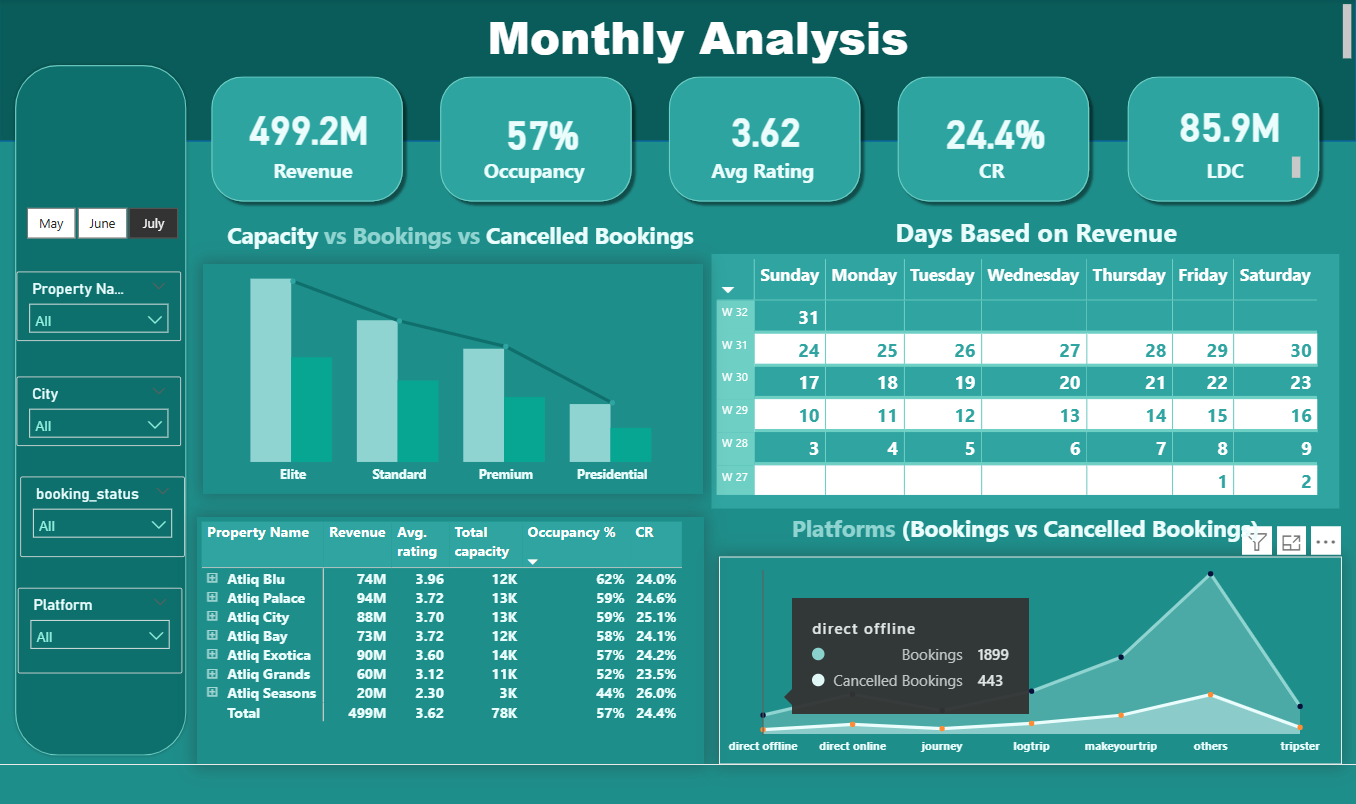

Layout of this report page (visuals, bound fields, positions):
{"tool":"powerbi","page":{"name":"Monthly Analysis","canvas":[1280,760],"ordinal":1},"visuals":[{"type":"group","id":"g1","title":"visuals","box":[0,0,1280,722.1],"z":0},{"type":"shape","box":[0,0,1280,134.4],"z":0,"group":"g1"},{"type":"shape","box":[840.8,65.9,194.5,131.9],"z":1000,"group":"g1"},{"type":"shape","box":[624.8,65.9,194.5,131.9],"z":2000,"group":"g1"},{"type":"shape","box":[192.9,65.9,194.5,131.9],"z":3000,"group":"g1"},{"type":"textbox","box":[672,480,592,80],"z":3000},{"type":"textbox","box":[198.7,203.2,471.7,47],"z":4000},{"type":"shape","box":[408.9,65.9,194.5,131.9],"z":5000,"group":"g1"},{"type":"shape","box":[11.5,59.3,168.2,657.8],"z":6000,"group":"g1"},{"type":"shape","box":[1056.7,65.9,194.5,131.9],"z":7000,"group":"g1"},{"type":"pivotTable","fields":{"Rows":["dim_date.week no"],"Values":["Sum(dim_date.DAY)"],"Columns":["Week_day.Weekday"]},"box":[672,240,592,240],"z":8000,"group":"g1"},{"type":"slicer","fields":{"Values":["dim_date.mmm yy.Variation.Date Hierarchy.Month"]},"box":[0,189.6,192.9,42.9],"z":9000,"group":"g1"},{"type":"kpi","title":"Revenue","fields":{"Indicator":["resource_measures.revenue"],"TrendLine":["dim_date.date.Variation.Date Hierarchy.Month"],"Goal":["resource_measures.revenue LM"]},"box":[204.4,92.3,176.4,62.6],"z":10000,"group":"g1"},{"type":"kpi","fields":{"Indicator":["resource_measures.Occupancy %"],"TrendLine":["dim_date.date.Variation.Date Hierarchy.Month"],"Goal":["resource_measures.Occupancy % LM"]},"box":[416,96,192,64],"z":11000,"group":"g1"},{"type":"kpi","fields":{"Goal":["resource_measures.cancellation rate LM"],"TrendLine":["dim_date.date.Variation.Date Hierarchy.Month"],"Indicator":["resource_measures.CR"]},"box":[852.3,90.7,174.8,72.5],"z":12000,"group":"g1"},{"type":"kpi","fields":{"Indicator":["resource_measures.LDC"],"Goal":["resource_measures.LDC LM"],"TrendLine":["dim_date.date.Variation.Date Hierarchy.Month"]},"box":[1072,80,176,80],"z":13000,"group":"g1"},{"type":"kpi","title":"Avg. rating ","fields":{"Indicator":["resource_measures.Avg. rating"],"TrendLine":["dim_date.date.Variation.Date Hierarchy.Month"],"Goal":["resource_measures.avg.rating LM"]},"box":[631.4,92.3,183,65.9],"z":14000,"group":"g1"},{"type":"textbox","box":[1088,144,144,32],"z":15000,"group":"g1"},{"type":"textbox","box":[864,144,144,48],"z":16000,"group":"g1"},{"type":"textbox","box":[640,144,160,48],"z":17000,"group":"g1"},{"type":"textbox","box":[432,144,144,48],"z":18000,"group":"g1"},{"type":"textbox","box":[224,144,144,48],"z":19000,"group":"g1"},{"type":"textbox","box":[1.9,0,1278.1,65.6],"z":20000,"group":"g1"},{"type":"slicer","fields":{"Values":["dim_hotels.property_name"]},"box":[16.5,257.2,155,65.9],"z":22000,"group":"g1"},{"type":"slicer","fields":{"Values":["dim_hotels.city"]},"box":[16.5,356.1,155,65.9],"z":23000,"group":"g1"},{"type":"slicer","fields":{"Values":["fact_bookings.booking_status"]},"box":[19.8,450.1,155,75.8],"z":24000,"group":"g1"},{"type":"slicer","fields":{"Values":["fact_bookings.booking_platform"]},"box":[18.1,555.6,155,80.8],"z":25000,"group":"g1"},{"type":"lineClusteredColumnComboChart","title":"Capacity vs Bookings vs Cancelled Bookings","fields":{"Category":["dim_rooms.room_class"],"Y":["resource_measures.Total capacity","resource_measures.Total sucessful bookings"],"Y2":["resource_measures.Total cancelled bookings"]},"box":[192.6,250.2,471.7,216.9],"z":26000,"group":"g1"},{"type":"areaChart","fields":{"Category":["fact_bookings.booking_platform"],"Y":["resource_measures.Total bookings","resource_measures.Total cancelled bookings"]},"box":[679.4,526.3,586.9,195.6],"z":27000,"group":"g1"},{"type":"pivotTable","fields":{"Rows":["dim_hotels.property_name","dim_hotels.city"],"Values":["resource_measures.revenue","resource_measures.Avg. rating","resource_measures.Total capacity","resource_measures.Occupancy %","resource_measures.CR"]},"box":[186.3,488,478.1,234.1],"z":28000,"group":"g1"},{"type":"textbox","box":[679.2,199.5,598.4,49.5],"z":29000,"group":"g1"}]}

Visuals, with their boxes in screenshot pixels (x1, y1, x2, y2), scaled from the page's 1280x760 canvas onto the 1356x804 screenshot:
"visuals" group: [x1=0, y1=0, x2=1355, y2=764]
shape: [x1=0, y1=0, x2=1355, y2=142]
shape: [x1=891, y1=70, x2=1097, y2=209]
shape: [x1=662, y1=70, x2=868, y2=209]
shape: [x1=204, y1=70, x2=410, y2=209]
textbox: [x1=712, y1=508, x2=1339, y2=592]
textbox: [x1=210, y1=215, x2=710, y2=265]
shape: [x1=433, y1=70, x2=639, y2=209]
shape: [x1=12, y1=63, x2=190, y2=759]
shape: [x1=1119, y1=70, x2=1325, y2=209]
pivotTable - dim_date.week no x Sum(dim_date.DAY): [x1=712, y1=254, x2=1339, y2=508]
slicer - dim_date.mmm yy.Variation.Date Hierarchy.Month: [x1=0, y1=201, x2=204, y2=246]
"Revenue" kpi: [x1=217, y1=98, x2=403, y2=164]
kpi - resource_measures.Occupancy % x dim_date.date.Variation.Date Hierarchy.Month: [x1=441, y1=102, x2=644, y2=169]
kpi - resource_measures.cancellation rate LM x dim_date.date.Variation.Date Hierarchy.Month: [x1=903, y1=96, x2=1088, y2=173]
kpi - resource_measures.LDC x resource_measures.LDC LM: [x1=1136, y1=85, x2=1322, y2=169]
"Avg. rating " kpi: [x1=669, y1=98, x2=863, y2=167]
textbox: [x1=1153, y1=152, x2=1305, y2=186]
textbox: [x1=915, y1=152, x2=1068, y2=203]
textbox: [x1=678, y1=152, x2=848, y2=203]
textbox: [x1=458, y1=152, x2=610, y2=203]
textbox: [x1=237, y1=152, x2=390, y2=203]
textbox: [x1=2, y1=0, x2=1355, y2=69]
slicer - dim_hotels.property_name: [x1=17, y1=272, x2=182, y2=342]
slicer - dim_hotels.city: [x1=17, y1=377, x2=182, y2=446]
slicer - fact_bookings.booking_status: [x1=21, y1=476, x2=185, y2=556]
slicer - fact_bookings.booking_platform: [x1=19, y1=588, x2=183, y2=673]
"Capacity vs Bookings vs Cancelled Bookings" lineClusteredColumnComboChart: [x1=204, y1=265, x2=704, y2=494]
areaChart - fact_bookings.booking_platform x resource_measures.Total bookings: [x1=720, y1=557, x2=1341, y2=764]
pivotTable - dim_hotels.property_name x dim_hotels.city: [x1=197, y1=516, x2=704, y2=764]
textbox: [x1=720, y1=211, x2=1353, y2=263]
